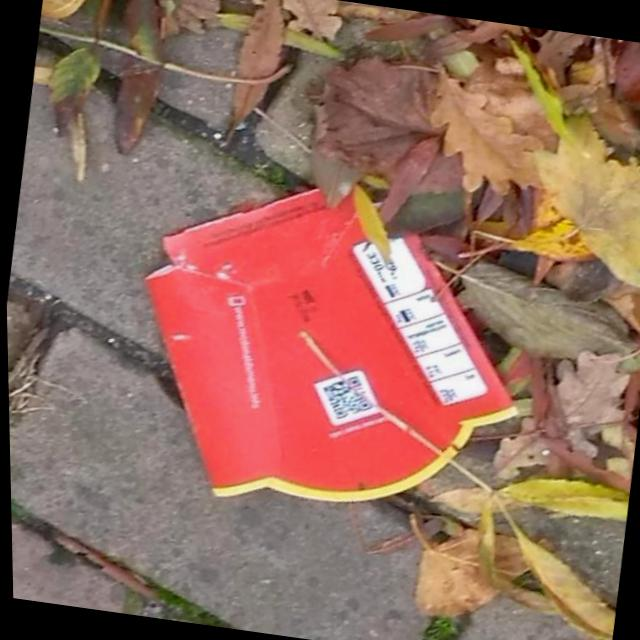Paper: (109, 150, 550, 540)
